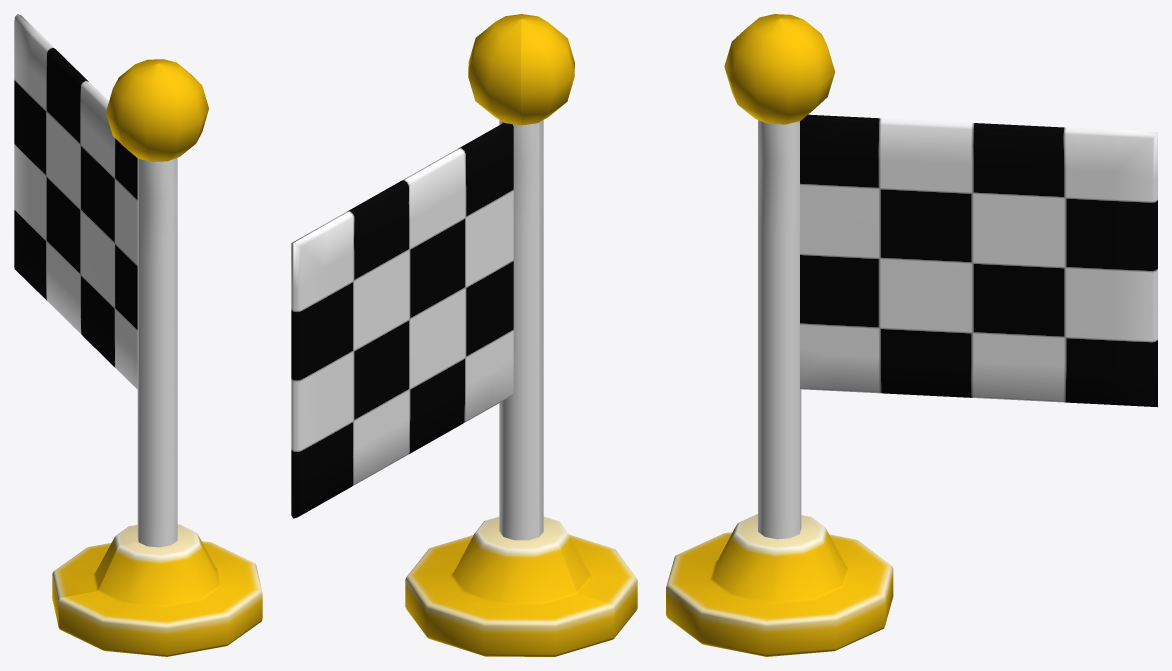
The model's file is goalflag.fbx.
3 views of the same model, side by side, from view 1: azimuth 30°, elevation 25°; view 2: azimuth 150°, elevation 25°; view 3: azimuth 270°, elevation 25° (orthographic). The views are drawn at different scales.
Parts seen in each view (by area): view 1: pCube1__Mt_Flag, pCylinder1__Mt_Gold, pCylinder2__Mt_Body; view 2: pCube1__Mt_Flag, pCylinder1__Mt_Gold, pCylinder2__Mt_Body; view 3: pCube1__Mt_Flag, pCylinder1__Mt_Gold, pCylinder2__Mt_Body.
Part boxes in pixels (x1,y1,x2,y2): pCube1__Mt_Flag: [14, 14, 137, 389]; pCylinder1__Mt_Gold: [52, 59, 262, 656]; pCylinder2__Mt_Body: [137, 158, 177, 547]; pCube1__Mt_Flag: [291, 123, 513, 518]; pCylinder1__Mt_Gold: [405, 14, 637, 656]; pCylinder2__Mt_Body: [499, 120, 543, 540]; pCube1__Mt_Flag: [800, 114, 1157, 407]; pCylinder1__Mt_Gold: [666, 14, 893, 656]; pCylinder2__Mt_Body: [758, 120, 801, 539].
Size of the model in its own units: 80.53 by 228 by 172.
Materials: 3 (3 with a texture image).
